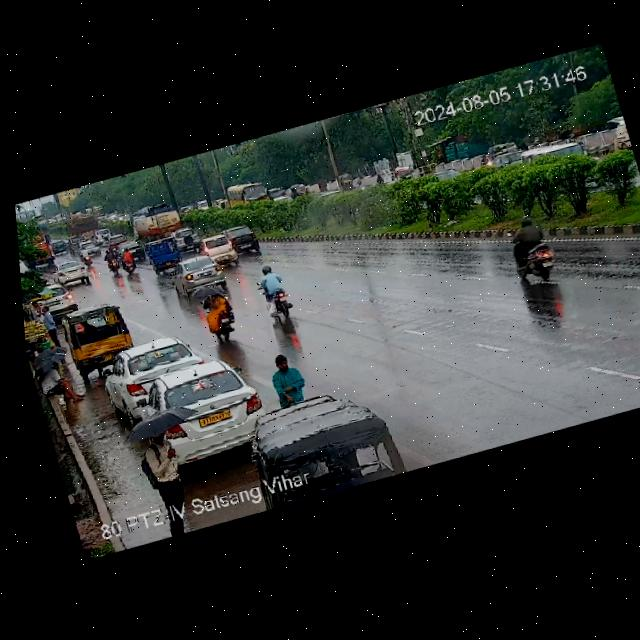bus: (225, 176, 270, 213)
car: (125, 354, 275, 478), (96, 329, 209, 410), (57, 298, 140, 372), (168, 251, 232, 297), (21, 278, 81, 321), (140, 233, 183, 275), (196, 230, 240, 271), (47, 257, 92, 290), (481, 138, 523, 168), (225, 227, 260, 259), (611, 115, 634, 157), (79, 239, 104, 258), (289, 180, 310, 198), (67, 232, 88, 248), (339, 171, 354, 193)
motorcycle: (500, 214, 565, 290), (194, 277, 244, 344), (253, 262, 303, 324), (174, 225, 205, 252), (116, 245, 139, 276), (102, 246, 124, 277), (77, 249, 93, 268)
person: (128, 405, 203, 481), (31, 352, 91, 416), (264, 349, 312, 409), (33, 301, 66, 347)
truck: (127, 204, 185, 243)
